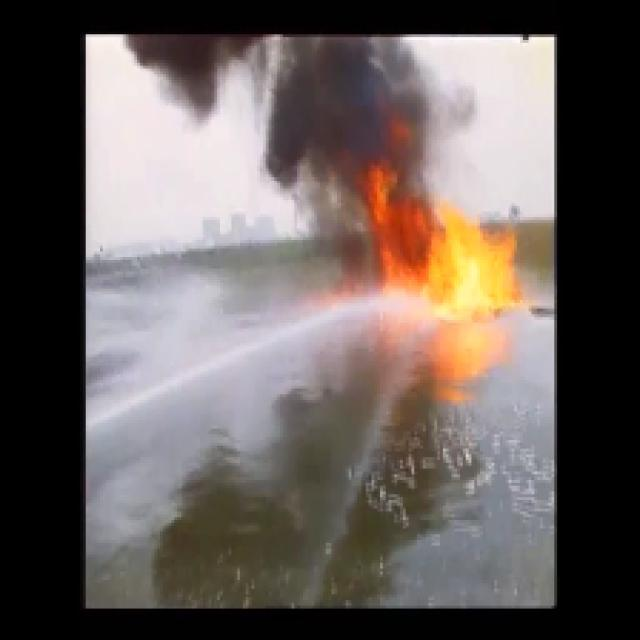fire: (385, 222, 520, 318)
smoke: (278, 41, 422, 196)
